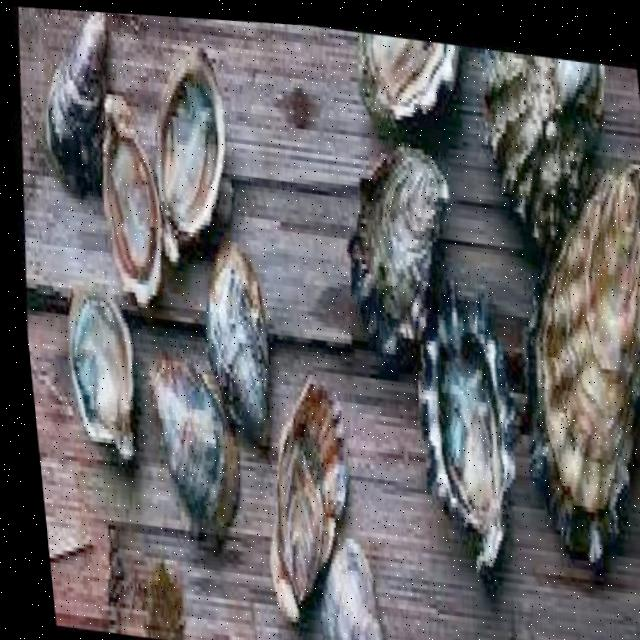Oyster-Indeterminate: (532, 167, 640, 541), (473, 50, 605, 235), (271, 376, 350, 624), (361, 145, 450, 360), (150, 357, 236, 531), (205, 244, 274, 435), (43, 11, 110, 200), (356, 35, 454, 137), (313, 539, 387, 640)
Oyster-Open: (417, 315, 520, 536), (64, 284, 140, 478), (100, 97, 168, 304), (153, 49, 226, 237)
